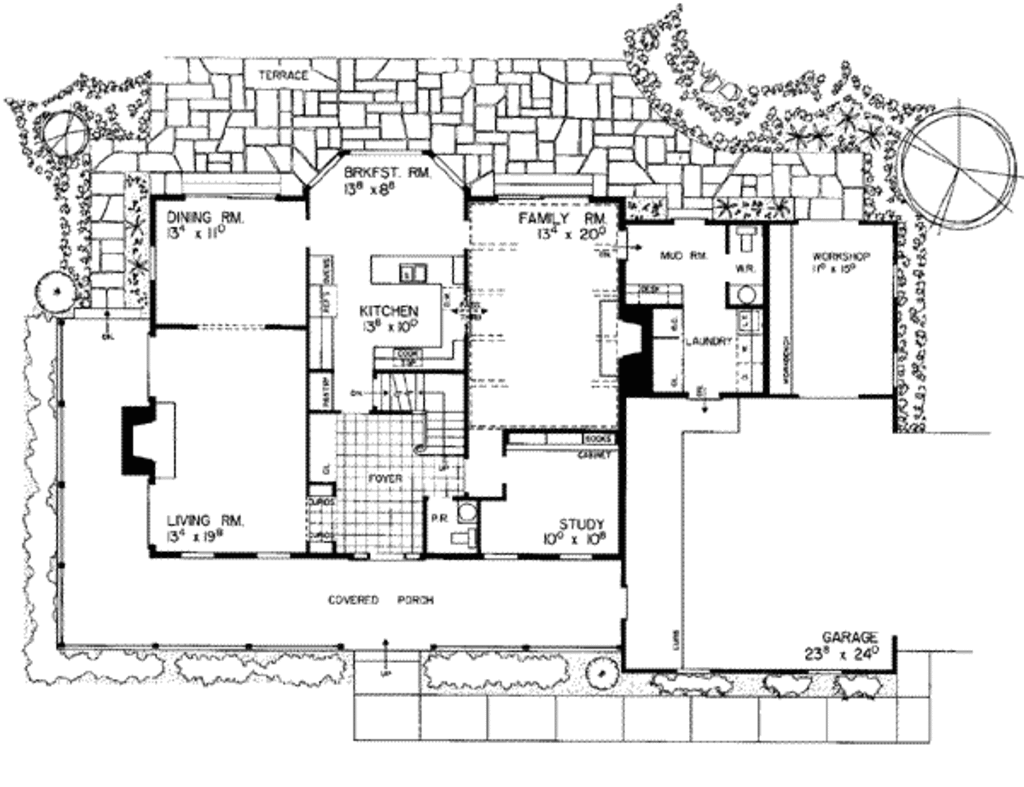kitchen_bar: (361, 248, 463, 290)
large_sink: (733, 225, 763, 261), (442, 527, 480, 553)
small_sink: (723, 282, 765, 307)
windows: (181, 188, 281, 202), (251, 547, 294, 564), (481, 547, 520, 562), (175, 548, 216, 562), (554, 550, 595, 563)
